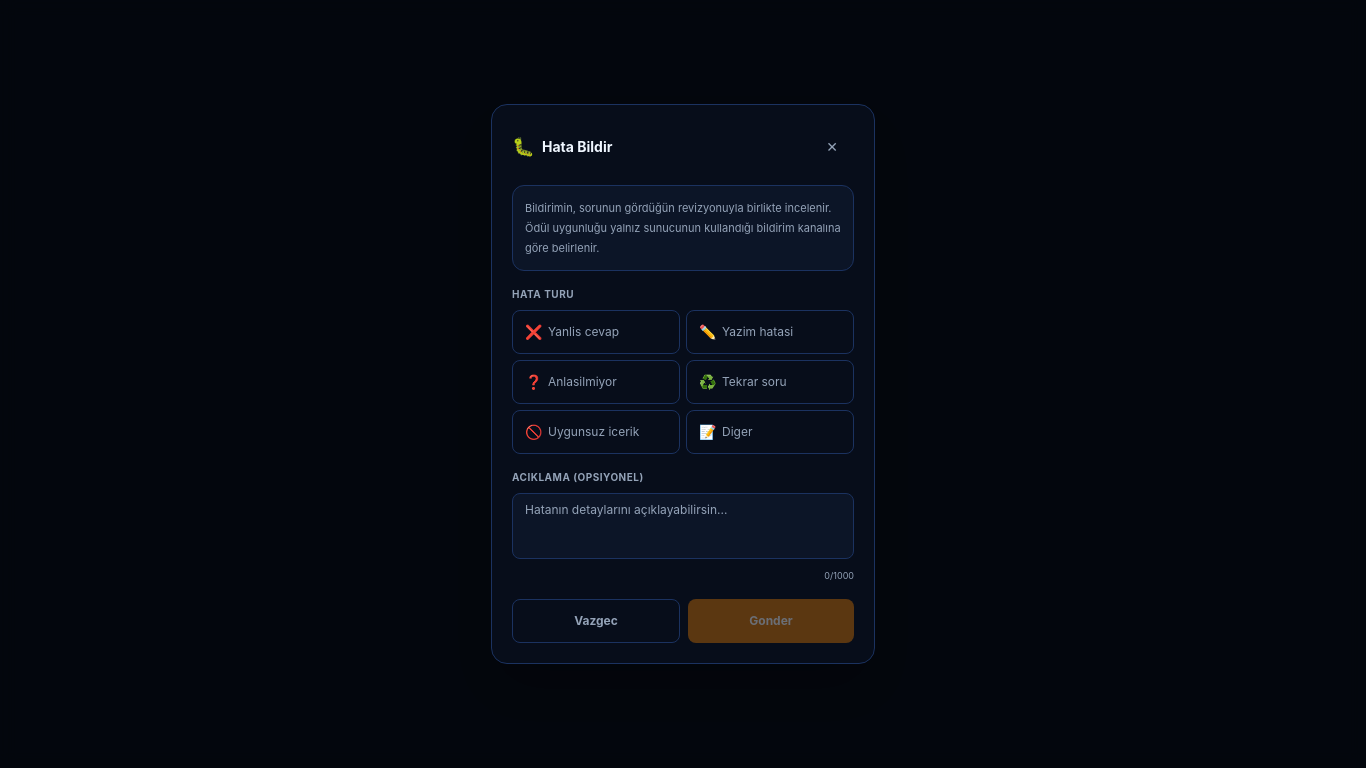
Test: ErrorReportModal — P1 sahte-başarı düzeltmesi › governance itirazında uygulanmayan altın ödülünü vaat etmez
Expected: the text "sorunun gördüğün revizyonuyla" is shown, [525,201,841,255]
Click the text "Yanlis cevap". click: (584, 332)
box: [548,324,619,340]
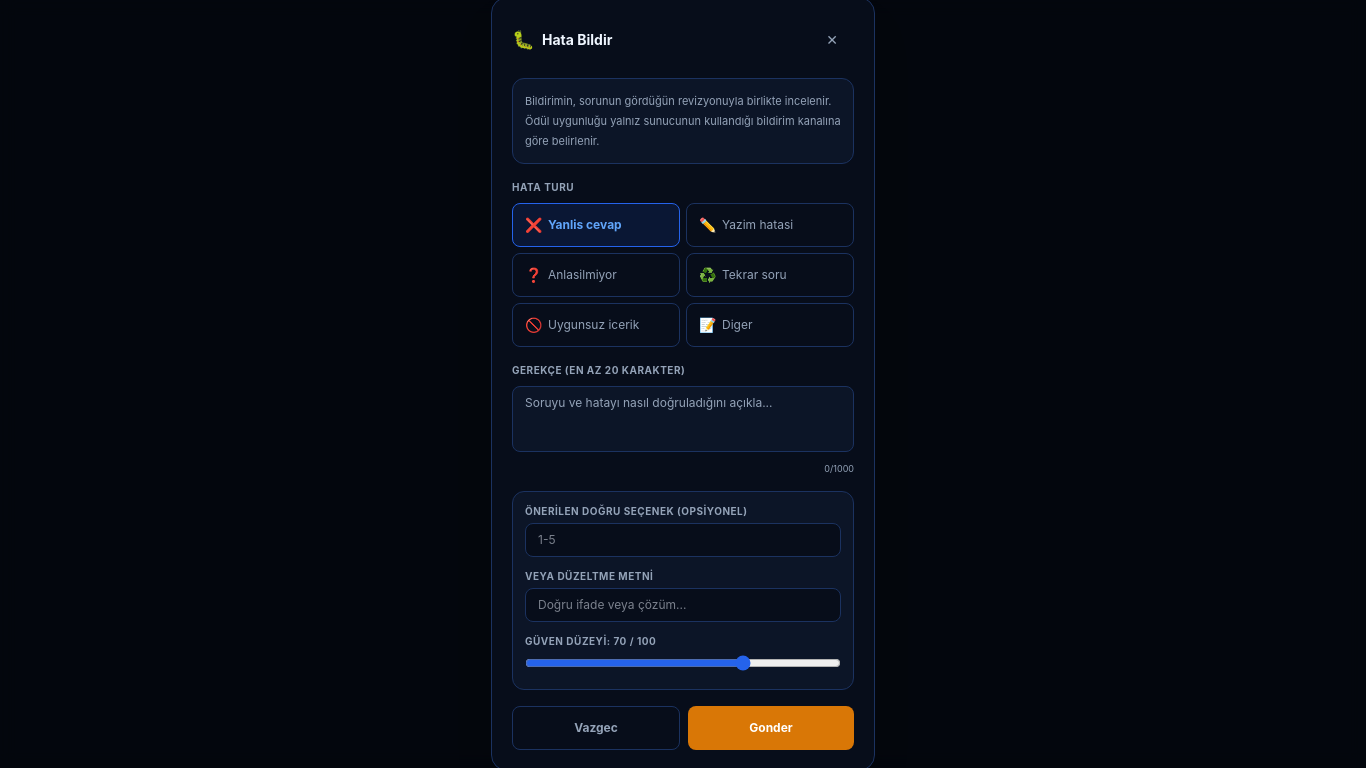
Click the button "Gonder". click: (771, 728)
box: [688,706,854,750]
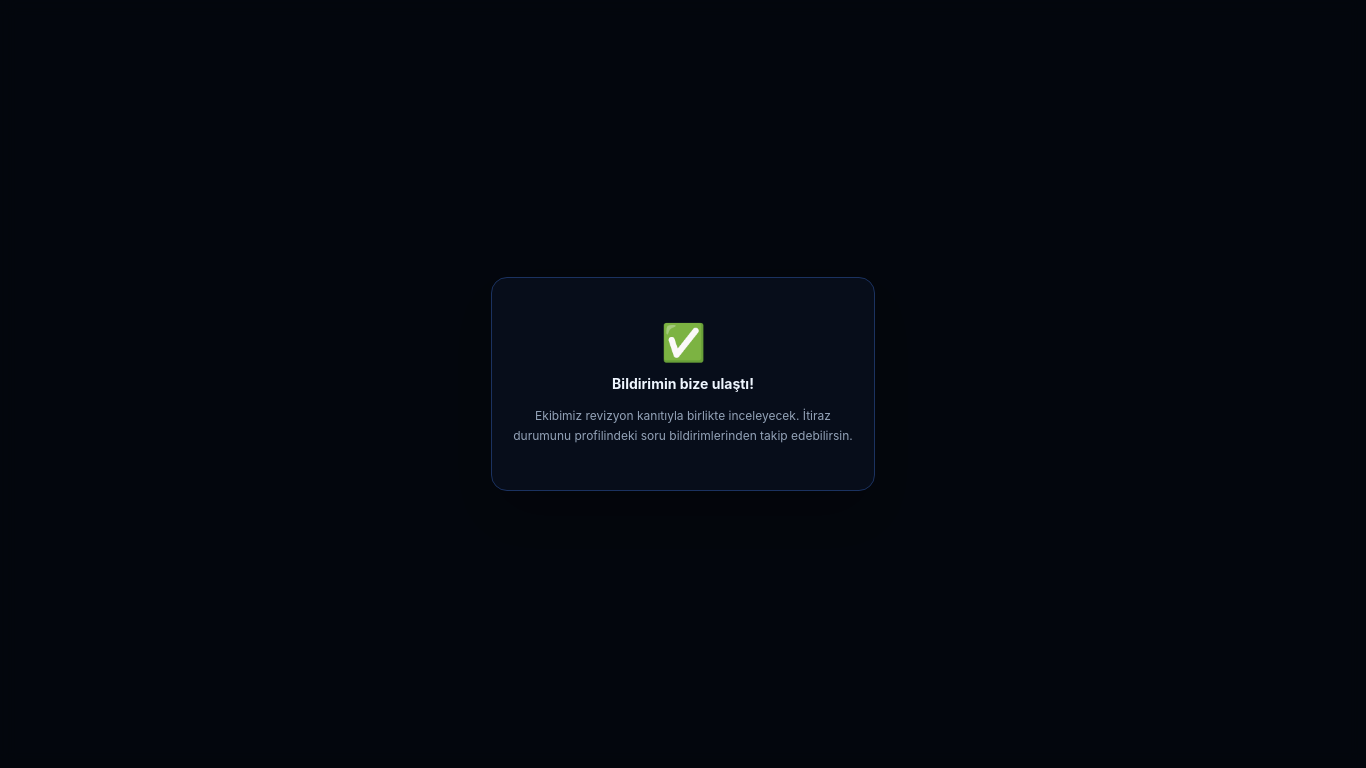
Expected: the text "revizyon kanıtıyla" is shown, [513,408,853,443]
